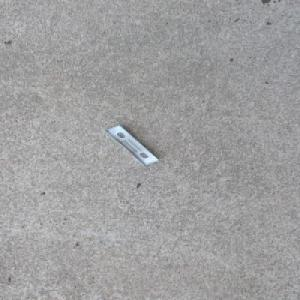ClampPart: (102, 123, 161, 166)
